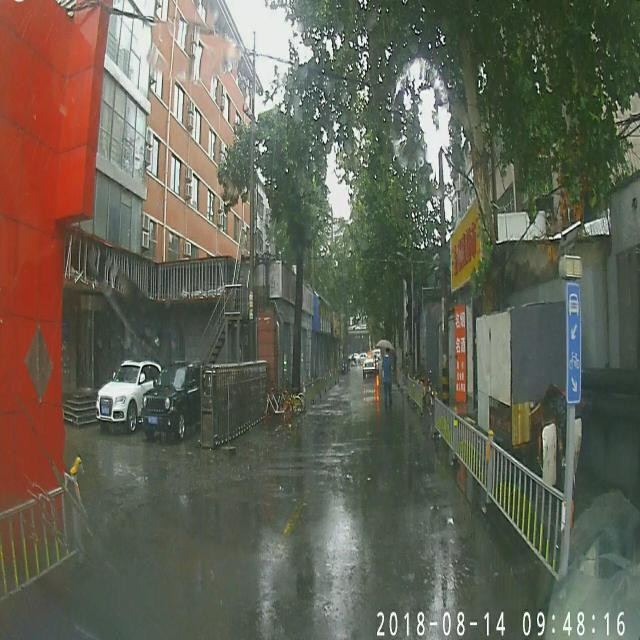car: (142, 362, 202, 439), (95, 360, 158, 430), (362, 354, 376, 376)
